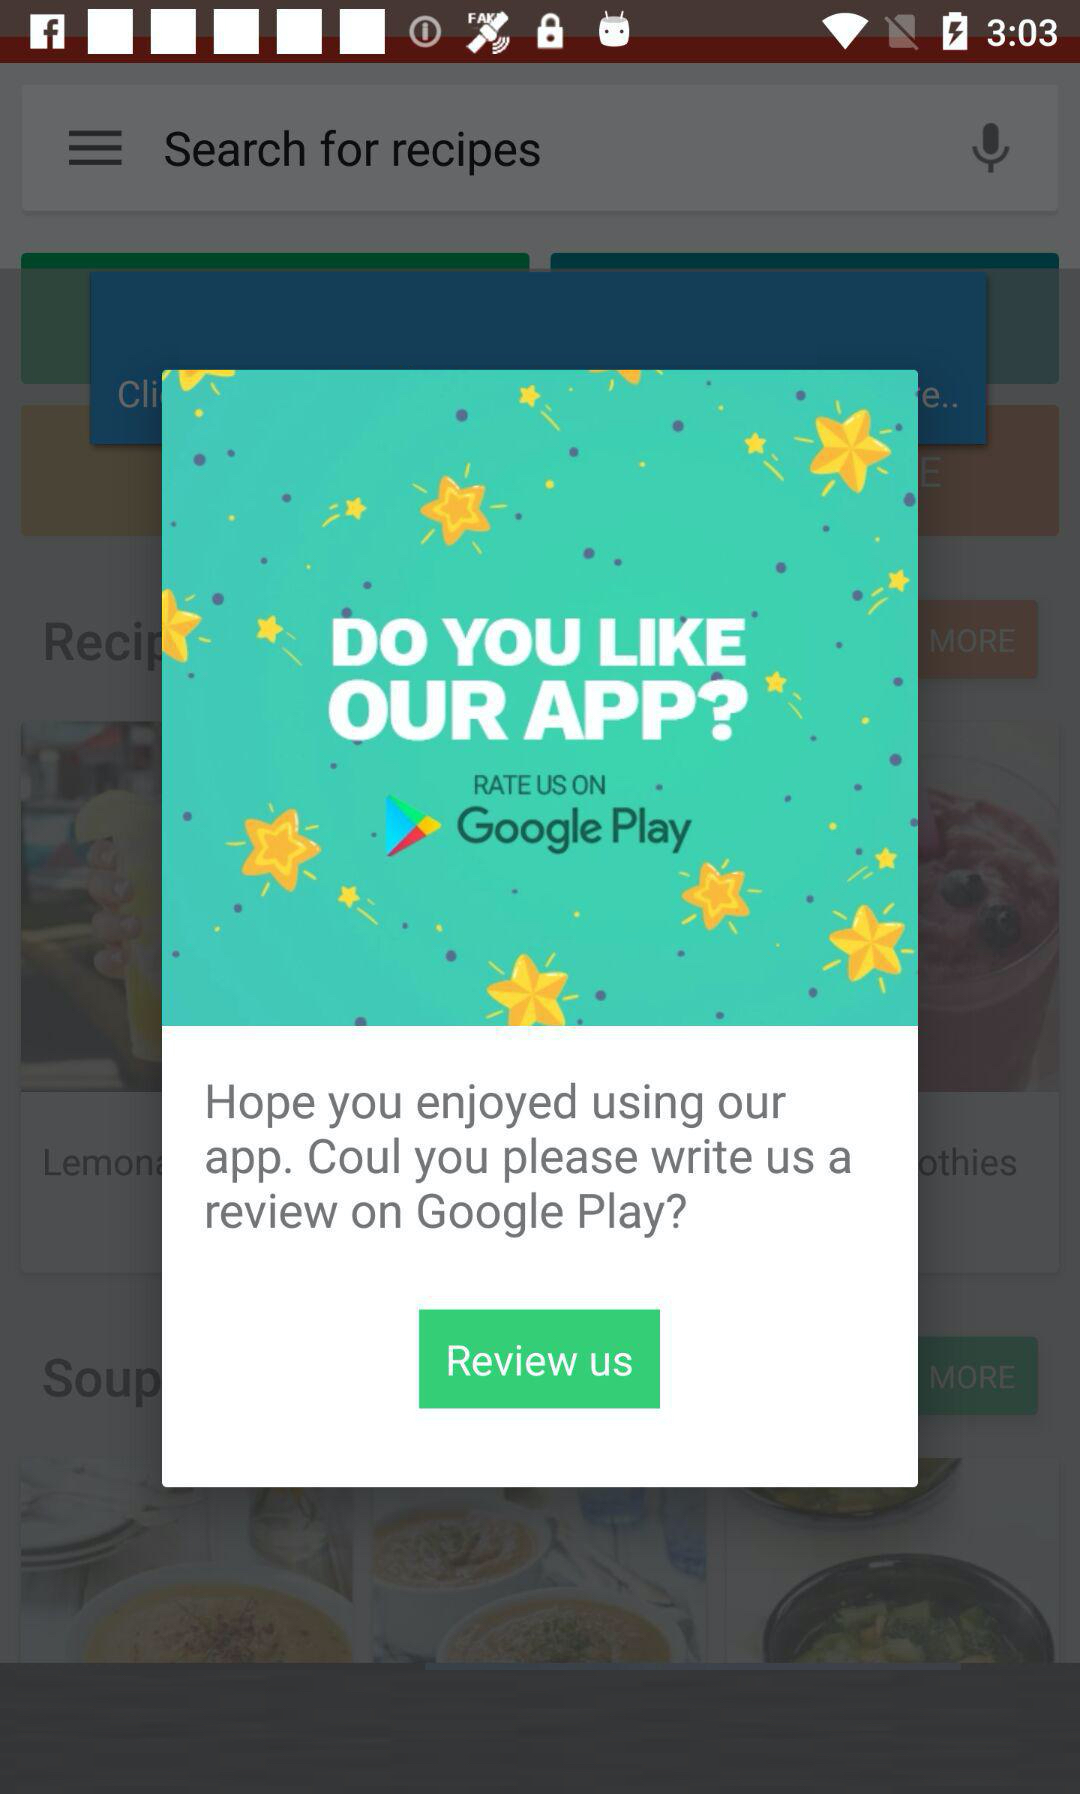Icon: (971, 122, 1010, 176), (69, 129, 124, 167)
Image: (163, 372, 919, 1026)
Modal: (161, 372, 919, 1488)
Text: (206, 1071, 849, 1239), (164, 129, 541, 177)
TextButton: (419, 1310, 661, 1408)
UpperTaskBar: (1, 1, 1080, 64)
